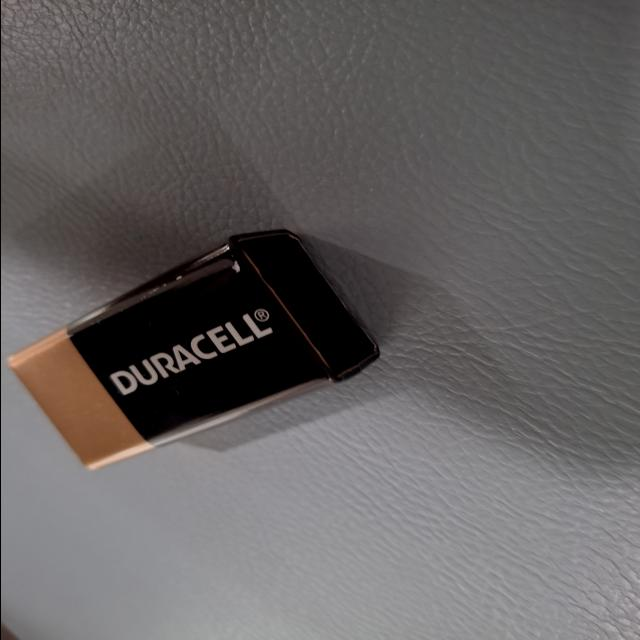9V: (262, 170, 630, 408)
